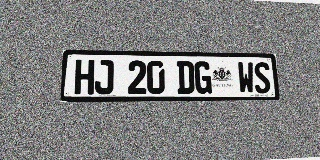0: (147, 61, 165, 94)
2: (128, 60, 146, 94)
D: (177, 61, 194, 94)
G: (194, 61, 212, 94)
H: (74, 60, 95, 95)
J: (94, 60, 114, 94)
S: (253, 62, 271, 93)
W: (237, 62, 255, 94)
